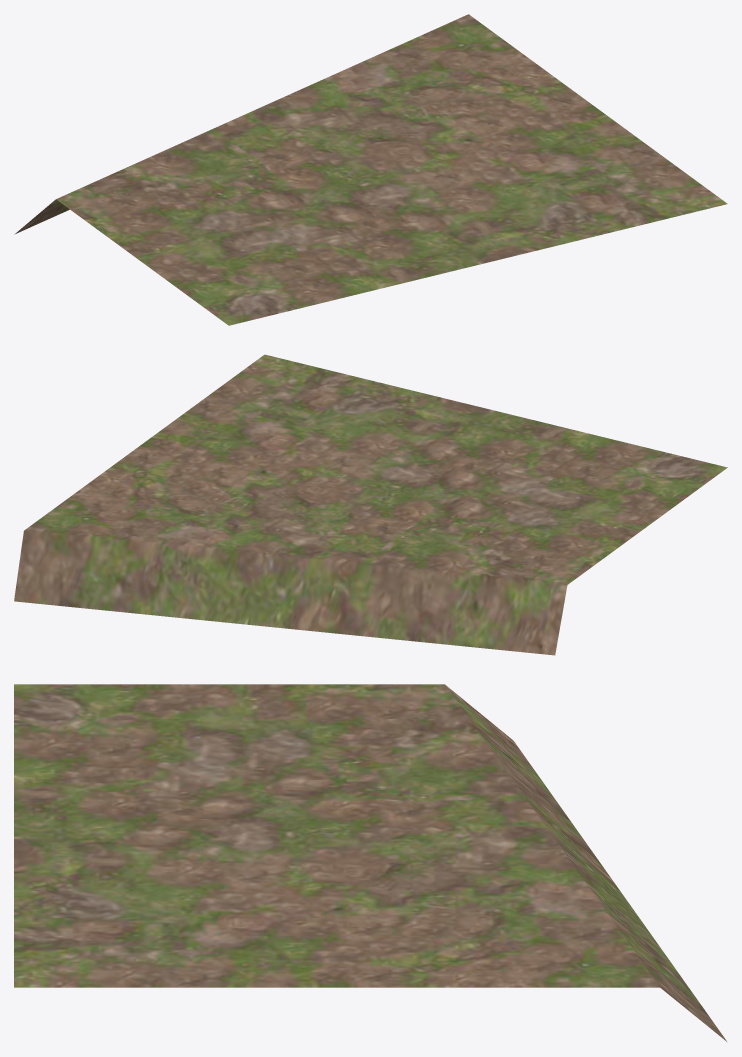
The model's file is ground2b.FBX.
The picture shows the model from 3 angles, top to bottom: view 1: azimuth 30°, elevation 25°; view 2: azimuth 150°, elevation 25°; view 3: azimuth 270°, elevation 25°; orthographic projection. The views are drawn at different scales.
Visible parts, largest first — view 1: ground2b; view 2: ground2b; view 3: ground2b.
Part boxes in pixels (x1=…): ground2b: x1=14, y1=14, x2=727, y2=325; ground2b: x1=14, y1=354, x2=727, y2=655; ground2b: x1=14, y1=684, x2=726, y2=1041.
Size of the model in its own units: 206 by 20 by 199.
